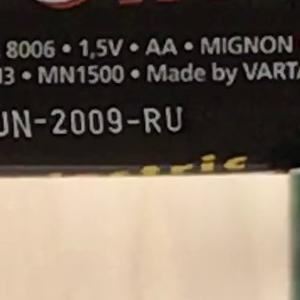keyword: (71, 30, 132, 65)
